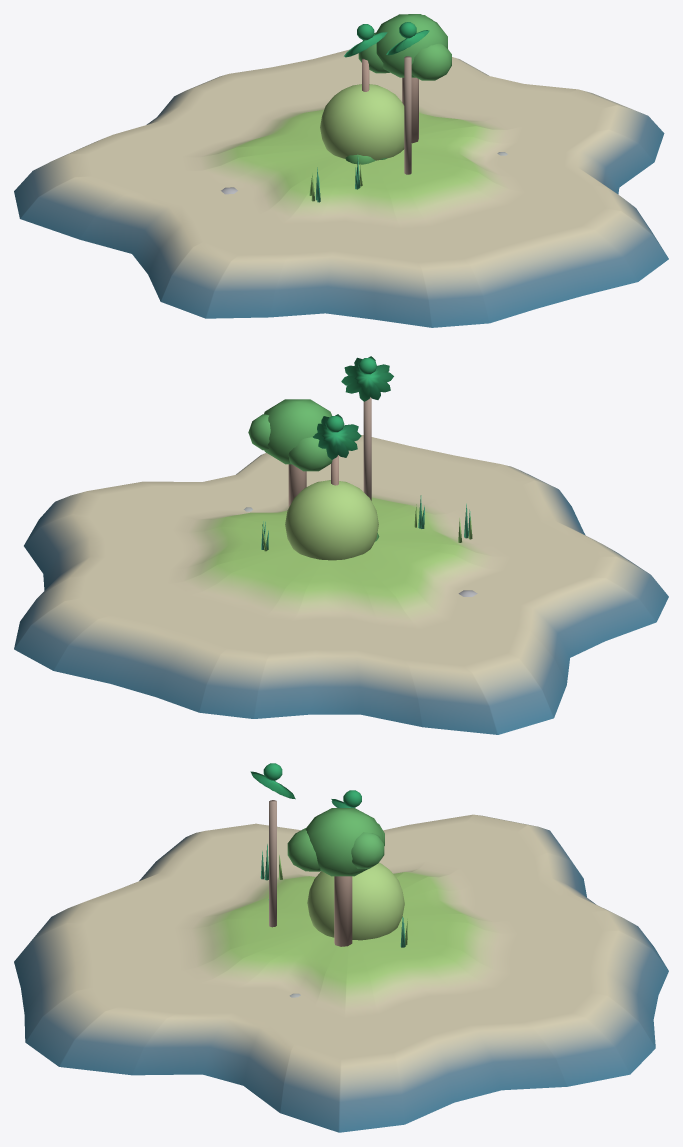
Rendered from terrain_island_13.glb.
3 renders of one model, top to bottom at view 1: azimuth 30°, elevation 25°; view 2: azimuth 150°, elevation 25°; view 3: azimuth 270°, elevation 25°, orthographic. The views are drawn at different scales.
Visible parts, largest first — view 1: island_terrain, hill0, veg_tree0_tree_crown_c, veg_tree0_tree_crown_1, veg_tree1_palm_trunk, veg_tree0_tree_trunk; view 2: island_terrain, hill0, veg_tree0_tree_crown_c, veg_tree0_tree_crown_2, veg_tree1_palm_trunk, veg_tree0_tree_crown_0; view 3: island_terrain, hill0, veg_tree0_tree_crown_c, veg_tree0_tree_trunk, veg_tree1_palm_trunk, veg_tree0_tree_crown_0, veg_tree0_tree_crown_1.
Part boxes in pixels (x1,y1,x2,y2): island_terrain: (14,49,668,327); hill0: (320,84,404,160); veg_tree0_tree_crown_c: (375,14,447,77); veg_tree0_tree_crown_1: (411,43,451,80); veg_tree1_palm_trunk: (404,56,411,174); veg_tree0_tree_trunk: (402,77,418,143); island_terrain: (14,435,668,734); hill0: (285,480,378,560); veg_tree0_tree_crown_c: (264,399,331,464); veg_tree0_tree_crown_2: (288,437,332,471); veg_tree1_palm_trunk: (363,397,371,500); veg_tree0_tree_crown_0: (248,414,270,450); island_terrain: (14,814,668,1132); hill0: (307,862,404,940); veg_tree0_tree_crown_c: (305,808,383,876); veg_tree0_tree_trunk: (334,876,352,946); veg_tree1_palm_trunk: (269,800,276,927); veg_tree0_tree_crown_0: (351,832,384,868); veg_tree0_tree_crown_1: (287,827,320,871).
Bounding box in the file's own units: 173 × 58.71 × 160.
